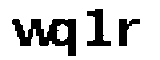1: (84, 6, 113, 50)
q: (49, 16, 80, 60)
r: (115, 14, 144, 48)
w: (9, 15, 55, 52)
